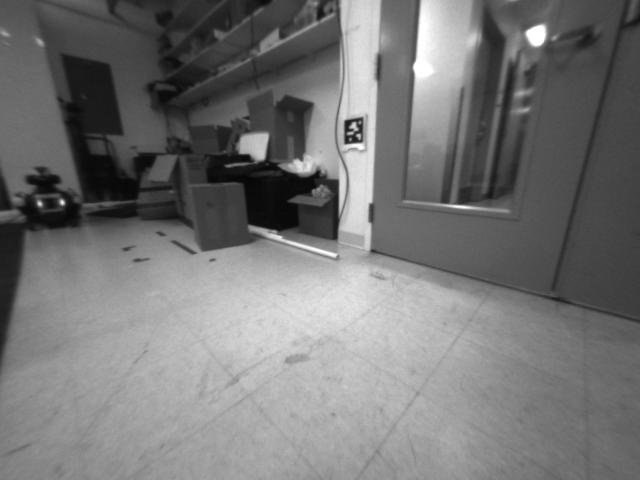door_handle: (540, 28, 602, 48)
